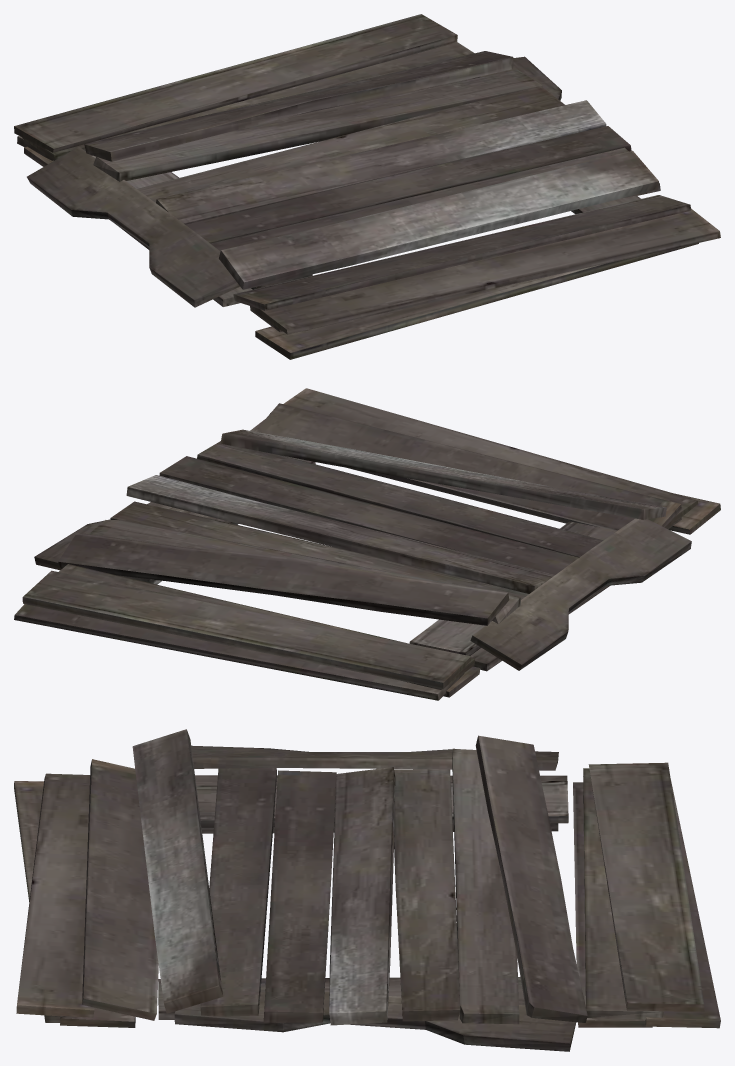
Rendered from woodbox_deployed.corpse.glb.
3 views of the same model, one above another, from view 1: azimuth 30°, elevation 25°; view 2: azimuth 150°, elevation 25°; view 3: azimuth 270°, elevation 25° (orthographic). The views are drawn at different scales.
Visible parts, largest first — view 1: CombinedGibsMesh; view 2: CombinedGibsMesh; view 3: CombinedGibsMesh.
Part boxes in pixels (left/top/right/bottom): CombinedGibsMesh: left=14, top=14, right=720, bottom=359; CombinedGibsMesh: left=14, top=388, right=720, bottom=700; CombinedGibsMesh: left=14, top=729, right=720, bottom=1051.
Bounding box in the file's own units: 1.13 × 0.1204 × 1.18.
1 material, 1 textured.
